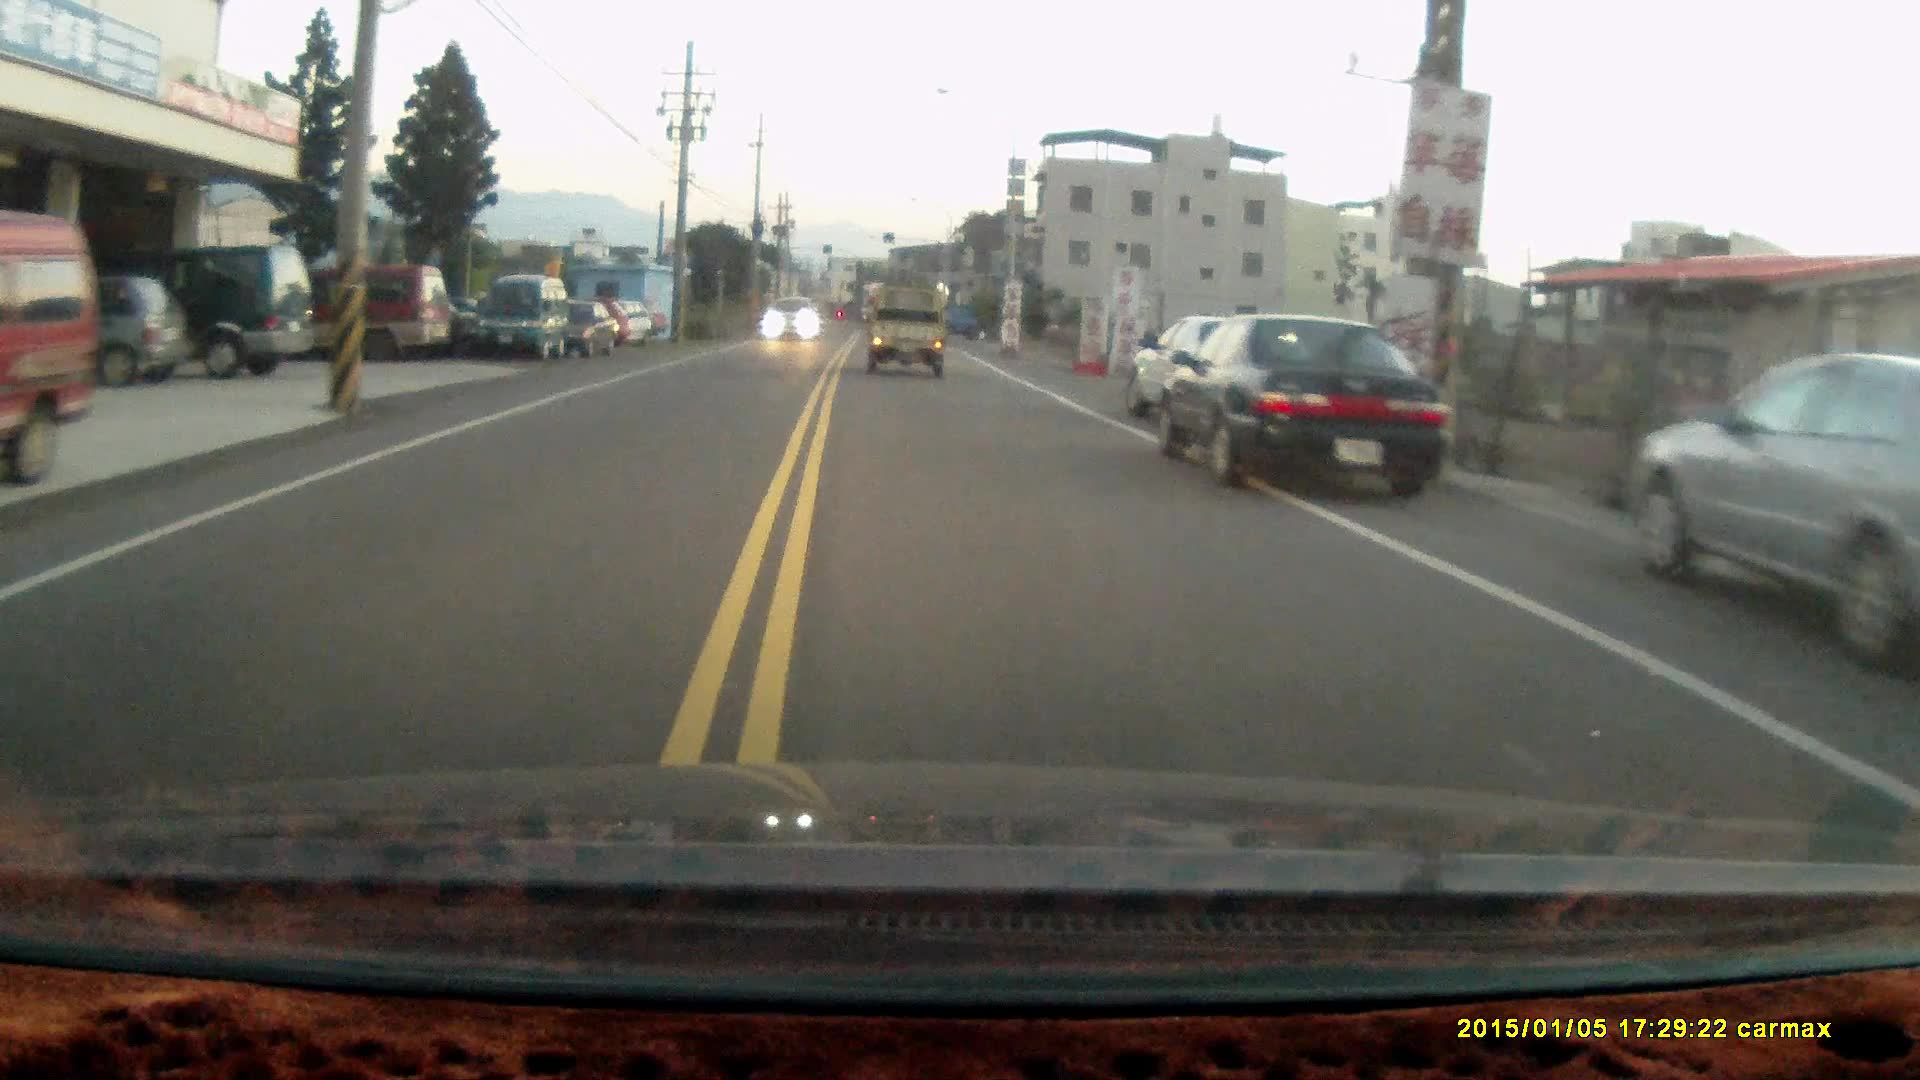vehicle: (1629, 351, 1920, 651), (1153, 314, 1451, 506), (69, 243, 319, 376), (1, 220, 98, 483), (1131, 318, 1308, 435), (245, 266, 454, 363), (463, 280, 567, 369), (864, 290, 949, 380), (550, 302, 622, 360), (760, 301, 820, 344)
